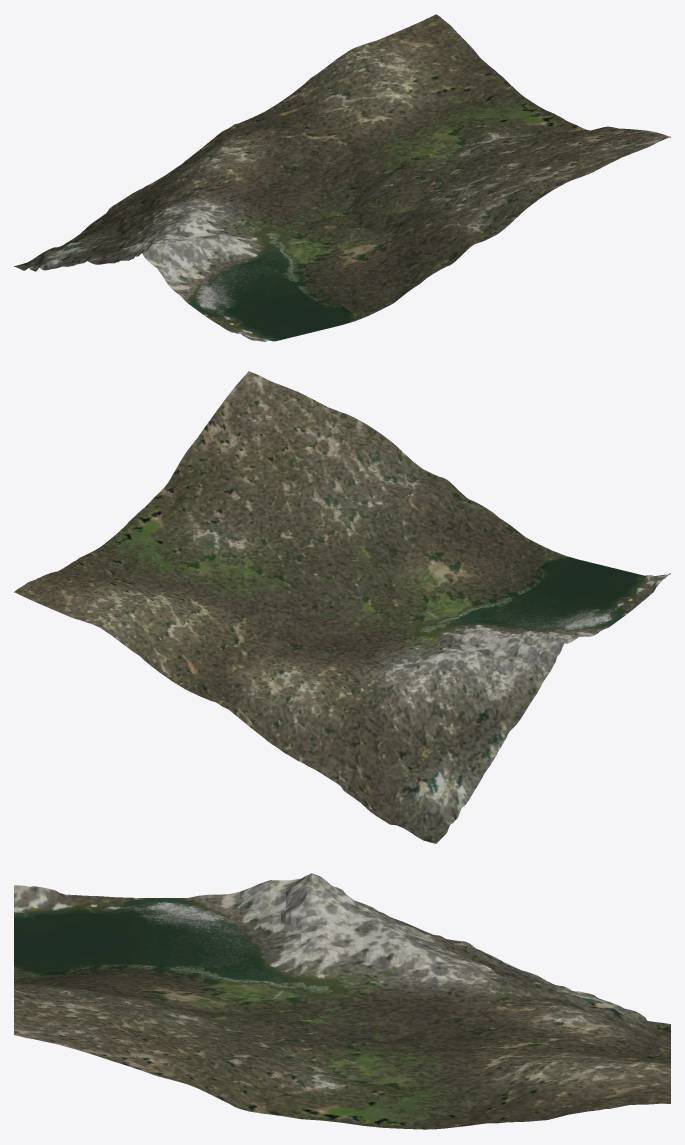
3 renders of one model, top to bottom at view 1: azimuth 30°, elevation 25°; view 2: azimuth 150°, elevation 25°; view 3: azimuth 270°, elevation 25°, orthographic. The views are drawn at different scales.
Bounding box in the file's own units: 500 × 225 × 481.
Materials: 1 (1 with a texture image).
